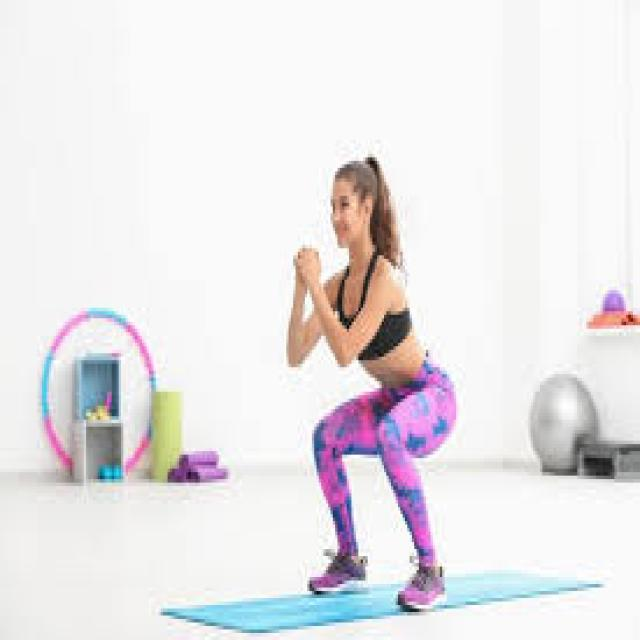squat: (283, 148, 456, 618)
